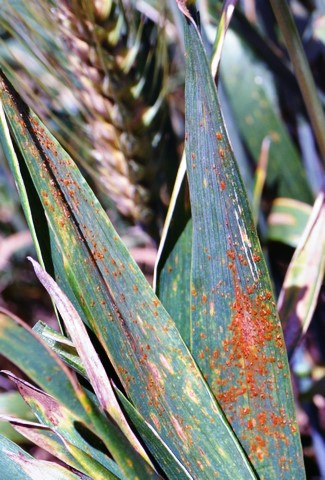Leaf Rust: (173, 231, 304, 458)
